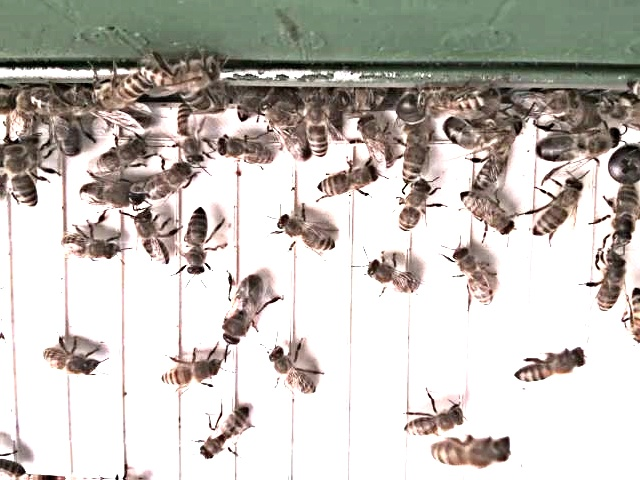Drone: (258, 95, 315, 165), (218, 274, 266, 349), (534, 128, 624, 167), (440, 115, 522, 154), (74, 178, 149, 212), (51, 97, 83, 164)
Worker: (530, 182, 582, 241), (197, 405, 250, 462), (450, 245, 494, 310), (272, 211, 336, 255), (457, 190, 515, 238), (2, 142, 40, 212), (426, 438, 508, 470), (268, 347, 316, 400), (90, 75, 158, 112), (130, 211, 171, 268), (510, 352, 578, 386), (362, 259, 422, 297), (314, 167, 376, 203), (214, 135, 278, 169), (354, 113, 392, 170), (39, 345, 100, 380), (607, 184, 640, 248), (142, 163, 193, 204), (400, 123, 434, 184), (158, 359, 219, 393), (92, 140, 148, 177), (401, 407, 462, 440), (181, 207, 209, 278), (592, 254, 625, 314), (174, 101, 202, 169), (394, 185, 428, 235), (60, 233, 114, 264), (306, 99, 332, 160), (626, 289, 640, 348)
